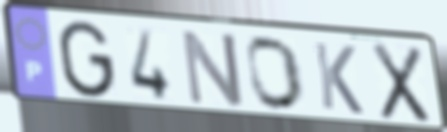4: (126, 27, 176, 104)
G: (57, 19, 118, 102)
K: (311, 39, 366, 118)
N: (178, 27, 247, 109)
O: (244, 34, 307, 113)
X: (369, 40, 432, 126)
